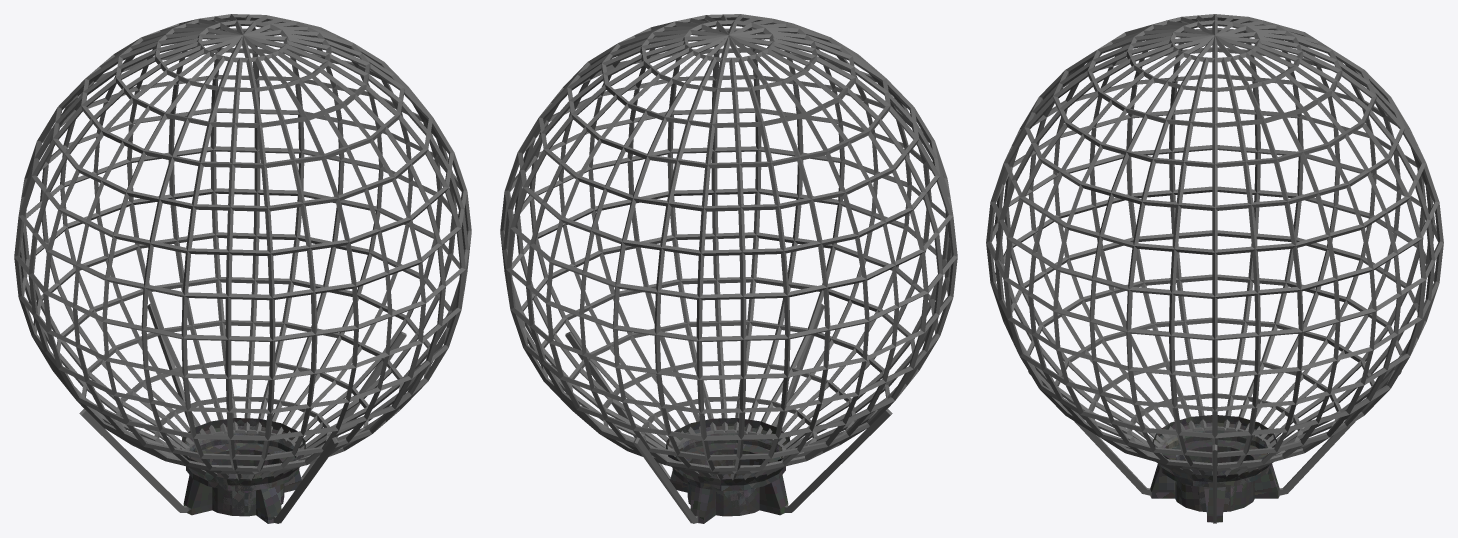
The model's file is machine_cage.glb.
3 views of the same model, side by side, from view 1: azimuth 30°, elevation 25°; view 2: azimuth 150°, elevation 25°; view 3: azimuth 270°, elevation 25° (orthographic).
Parts seen in each view (by area): view 1: Cage, Base.001, BaseArm4, BaseArm3, BaseArm1, BaseArm2; view 2: Cage, Base.001, BaseArm4, BaseArm2, BaseArm1, BaseArm3; view 3: Cage, Base.001, BaseArm2, BaseArm3.
Part boxes in pixels (x1,y1,x2,y2): Cage: (14,14,471,480); Base.001: (180,418,305,523); BaseArm4: (79,409,188,512); BaseArm3: (273,437,338,523); BaseArm1: (301,331,406,480); BaseArm2: (147,303,196,427); Cage: (500,14,957,480); Base.001: (666,418,791,523); BaseArm4: (784,409,892,512); BaseArm2: (633,437,698,523); BaseArm1: (565,331,670,480); BaseArm3: (775,303,824,427); Cage: (986,14,1443,476); Base.001: (1150,415,1279,522); BaseArm2: (1278,371,1401,495); BaseArm3: (1028,371,1151,495).
Size of the model in its own units: 0.2916 by 0.3234 by 0.2916.
Materials: 2 (1 with a texture image).
